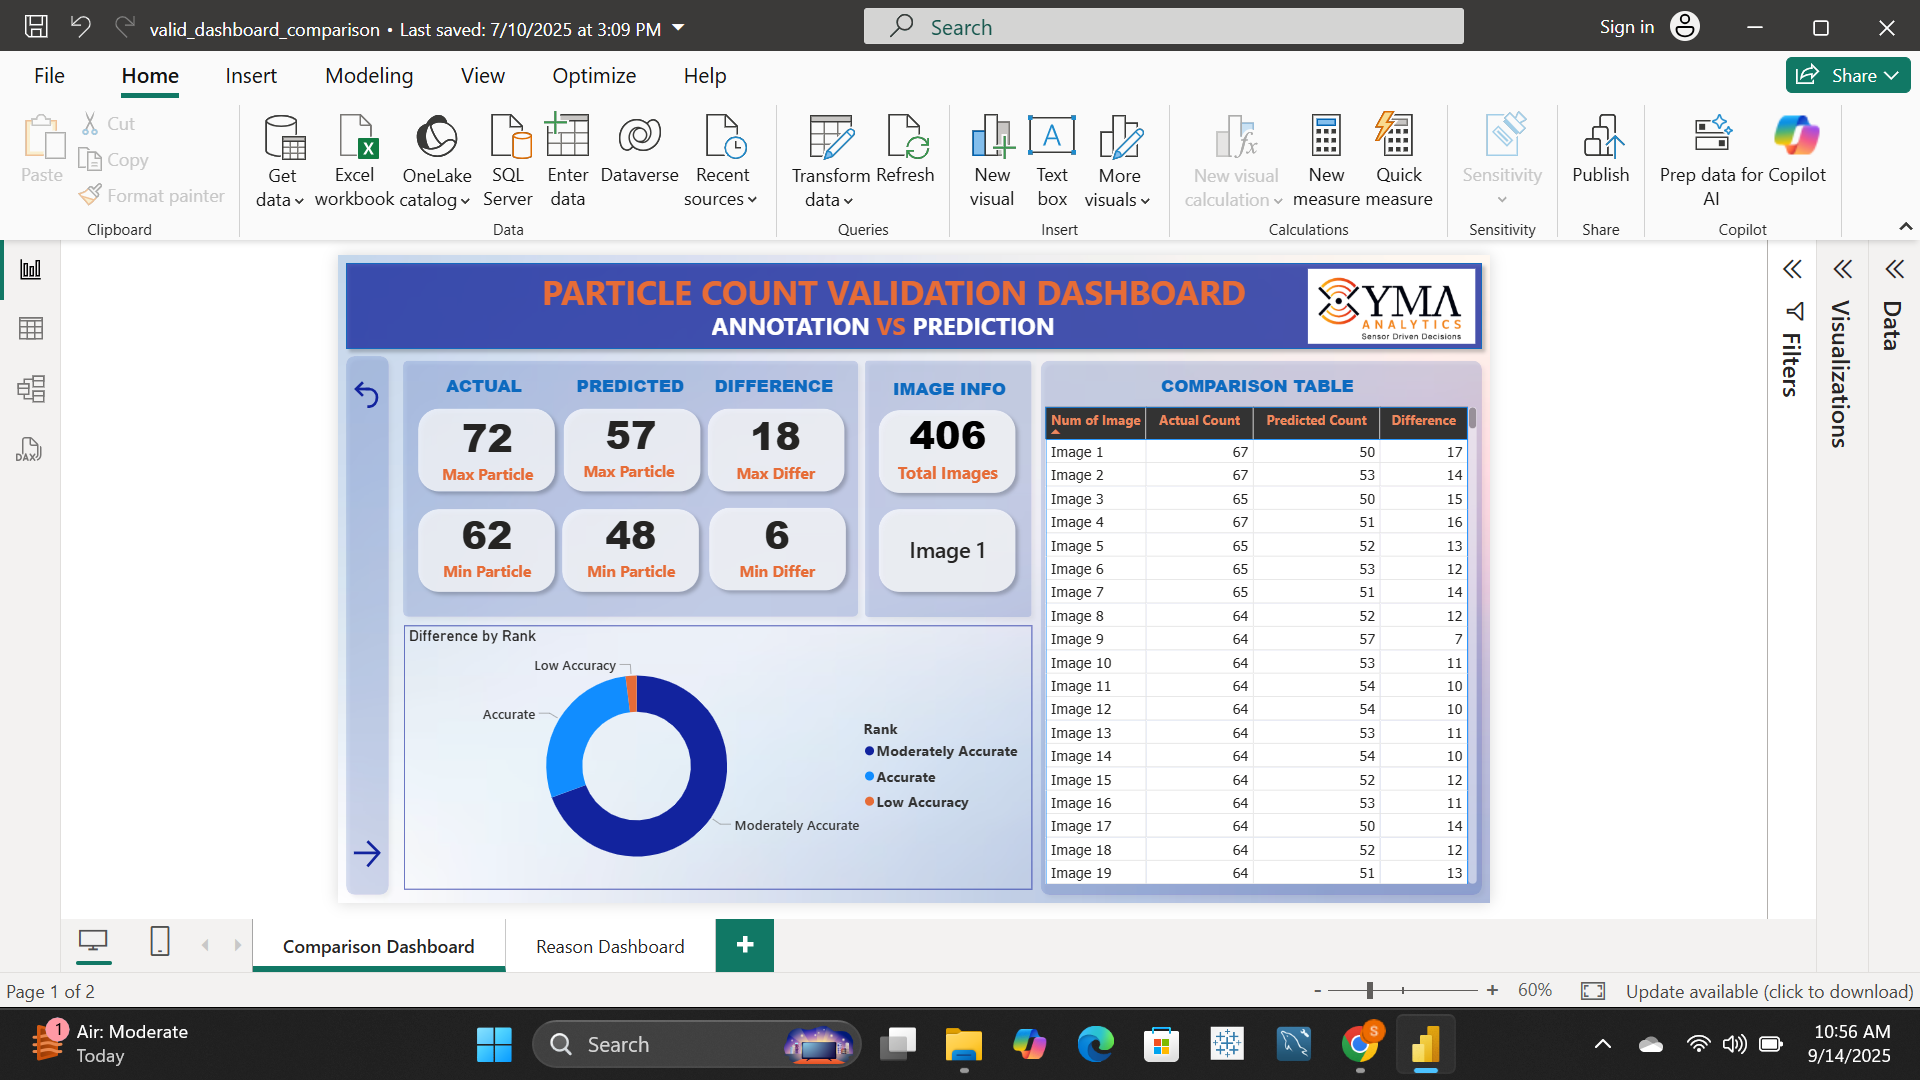

Layout of this report page (visuals, bound fields, positions):
{"tool":"powerbi","page":{"name":"Comparison Dashboard","canvas":[1280,720],"ordinal":0},"visuals":[{"type":"shape","box":[0,0,1280,113.3],"z":0},{"type":"shape","box":[0,103.6,65.5,616.4],"z":1000},{"type":"shape","box":[63.8,108.8,523.8,302.5],"z":2000},{"type":"textbox","box":[114.3,127.1,107.1,50],"z":3000},{"type":"textbox","box":[260,126.2,133.8,55],"z":4000},{"type":"textbox","box":[412.9,127.1,160,55.7],"z":5000},{"type":"textbox","box":[222,10,806,60],"z":6000},{"type":"textbox","box":[410,55.7,402.9,47.1],"z":7000},{"type":"image","box":[1071.7,10,198.3,93.3],"z":8000},{"type":"shape","box":[771.7,108.3,508.3,611.7],"z":9000},{"type":"shape","box":[80,161.2,170,110],"z":10000},{"type":"tableEx","fields":{"Values":["Actual_particle_counts.Number of Image","ComparisonTable.Annotation Particles Count","ComparisonTable.Prediction Particles Count","ComparisonTable.Difference"]},"box":[780,163.3,490,540],"z":11000},{"type":"textbox","box":[904,126,246,54],"z":12000},{"type":"donutChart","fields":{"Category":["ComparisonTable.Rank"],"Y":["ComparisonTable.Difference"]},"box":[73,411,698,293],"z":13000},{"type":"shape","box":[241.2,161.2,170,110],"z":14000},{"type":"shape","box":[401.4,161.1,170,110],"z":15000},{"type":"shape","box":[80,273.8,170,110],"z":16000},{"type":"shape","box":[240,273.8,170,110],"z":17000},{"type":"shape","box":[402.5,271.2,170,110],"z":18000},{"type":"card","fields":{"Values":["Actual_particle_counts.Annotated Particle Count"]},"box":[97.5,163.8,135,98.8],"z":19000},{"type":"card","fields":{"Values":["ComparisonTable.Difference"]},"box":[418.8,161.2,135,98.8],"z":20000},{"type":"card","fields":{"Values":["ComparisonTable.Difference"]},"box":[420,271.2,135,97.5],"z":21000},{"type":"card","fields":{"Values":["Actual_particle_counts.Annotated Particle Count"]},"box":[97.5,271.2,133.8,97.5],"z":22000},{"type":"card","fields":{"Values":["Predict_particle_counts.Predicted Particle Count"]},"box":[258.8,161.2,133.8,96.2],"z":23000},{"type":"card","fields":{"Values":["Predict_particle_counts.Predicted Particle Count"]},"box":[257.5,271.2,133.8,97.5],"z":24000},{"type":"shape","box":[577.1,108.6,202.9,302.9],"z":25000},{"type":"textbox","box":[612,130,144,44],"z":26000},{"type":"shape","box":[591.4,162.9,170,110],"z":27000},{"type":"shape","box":[591.4,272.9,170,110],"z":28000},{"type":"card","fields":{"Values":["Actual_particle_counts.Number of Image"]},"box":[611.4,308.6,130,40],"z":29000},{"type":"textbox","box":[630,163.3,111.7,70],"z":30000},{"type":"textbox","box":[616.7,223.3,133.3,36.7],"z":31000},{"type":"actionButton","box":[11.4,135.7,41.4,40],"z":32000},{"type":"actionButton","box":[12,644,40,44],"z":33000}]}

Visuals, with their boxes on the page's 1280x720 design canvas (x1, y1, x2, y2). These are canvas units, not pixel positions in the 1920x1080 screenshot, which may show the page scaled, cropped or inside an application window:
shape: select_region(0, 0, 1280, 113)
shape: select_region(0, 104, 66, 720)
shape: select_region(64, 109, 588, 411)
textbox: select_region(114, 127, 221, 177)
textbox: select_region(260, 126, 394, 181)
textbox: select_region(413, 127, 573, 183)
textbox: select_region(222, 10, 1028, 70)
textbox: select_region(410, 56, 813, 103)
image: select_region(1072, 10, 1270, 103)
shape: select_region(772, 108, 1280, 720)
shape: select_region(80, 161, 250, 271)
tableEx - Actual_particle_counts.Number of Image x ComparisonTable.Annotation Particles Count: select_region(780, 163, 1270, 703)
textbox: select_region(904, 126, 1150, 180)
donutChart - ComparisonTable.Rank x ComparisonTable.Difference: select_region(73, 411, 771, 704)
shape: select_region(241, 161, 411, 271)
shape: select_region(401, 161, 571, 271)
shape: select_region(80, 274, 250, 384)
shape: select_region(240, 274, 410, 384)
shape: select_region(402, 271, 572, 381)
card - Actual_particle_counts.Annotated Particle Count: select_region(98, 164, 232, 263)
card - ComparisonTable.Difference: select_region(419, 161, 554, 260)
card - ComparisonTable.Difference: select_region(420, 271, 555, 369)
card - Actual_particle_counts.Annotated Particle Count: select_region(98, 271, 231, 369)
card - Predict_particle_counts.Predicted Particle Count: select_region(259, 161, 393, 257)
card - Predict_particle_counts.Predicted Particle Count: select_region(258, 271, 391, 369)
shape: select_region(577, 109, 780, 412)
textbox: select_region(612, 130, 756, 174)
shape: select_region(591, 163, 761, 273)
shape: select_region(591, 273, 761, 383)
card - Actual_particle_counts.Number of Image: select_region(611, 309, 741, 349)
textbox: select_region(630, 163, 742, 233)
textbox: select_region(617, 223, 750, 260)
actionButton: select_region(11, 136, 53, 176)
actionButton: select_region(12, 644, 52, 688)
